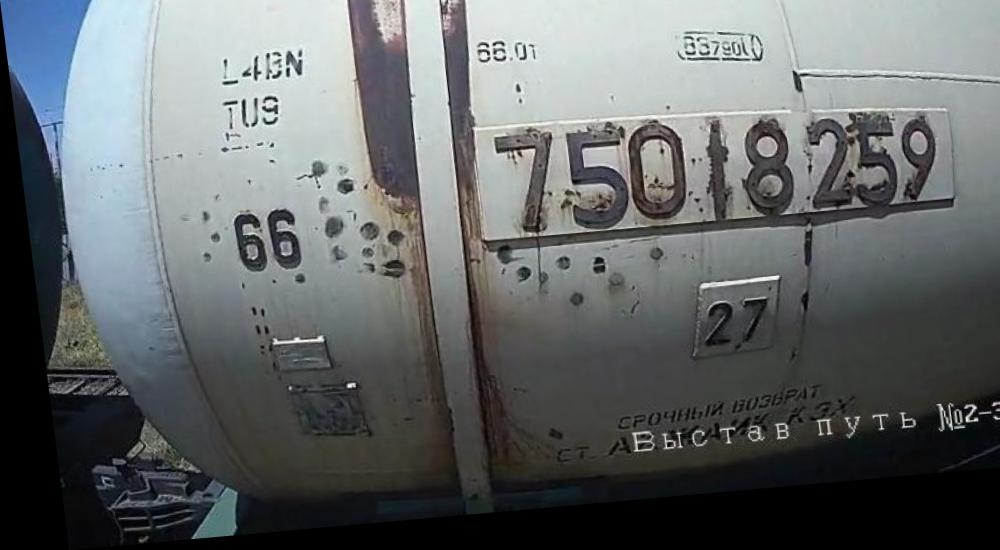Wagon-number: (478, 108, 942, 251)
